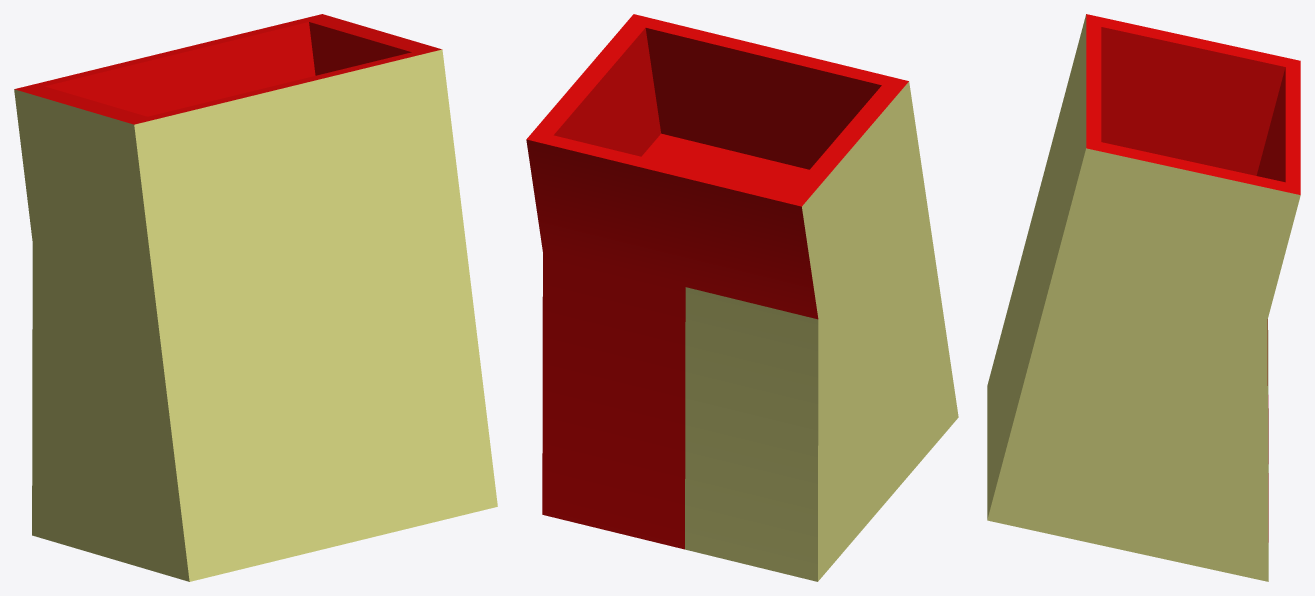
The model's file is kirmizi_kutu.fbx.
3 views of the same model, side by side, from view 1: azimuth 30°, elevation 25°; view 2: azimuth 150°, elevation 25°; view 3: azimuth 270°, elevation 25° (orthographic). The views are drawn at different scales.
Visible parts, largest first — view 1: pCube15; view 2: pCube15; view 3: pCube15.
Boxes of the visible parts, x1,y1,x2,y2 form: pCube15: (14, 14, 497, 581); pCube15: (526, 14, 958, 581); pCube15: (987, 14, 1300, 581).
Bounding box in the file's own units: 4.33 × 6.51 × 4.27.
